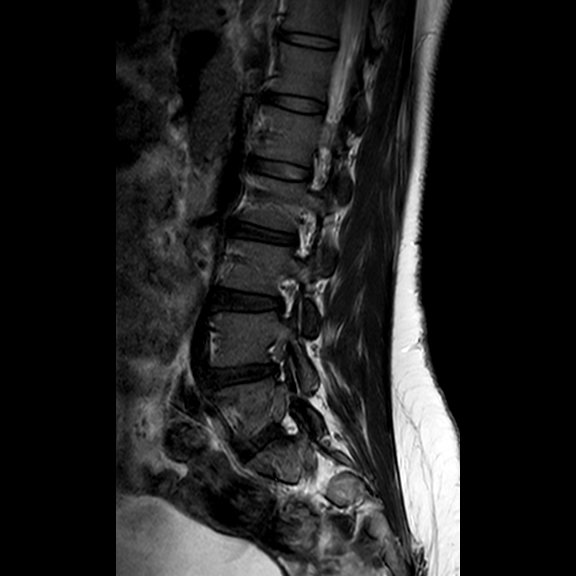RFS0: (262, 268, 312, 328)
